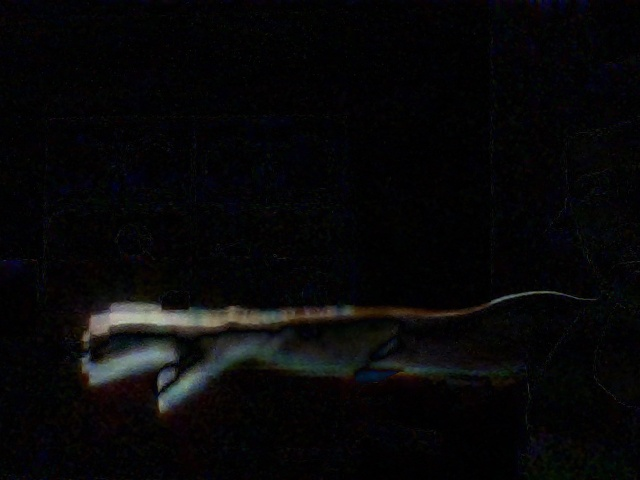hand_pa: (75, 285, 241, 412)
